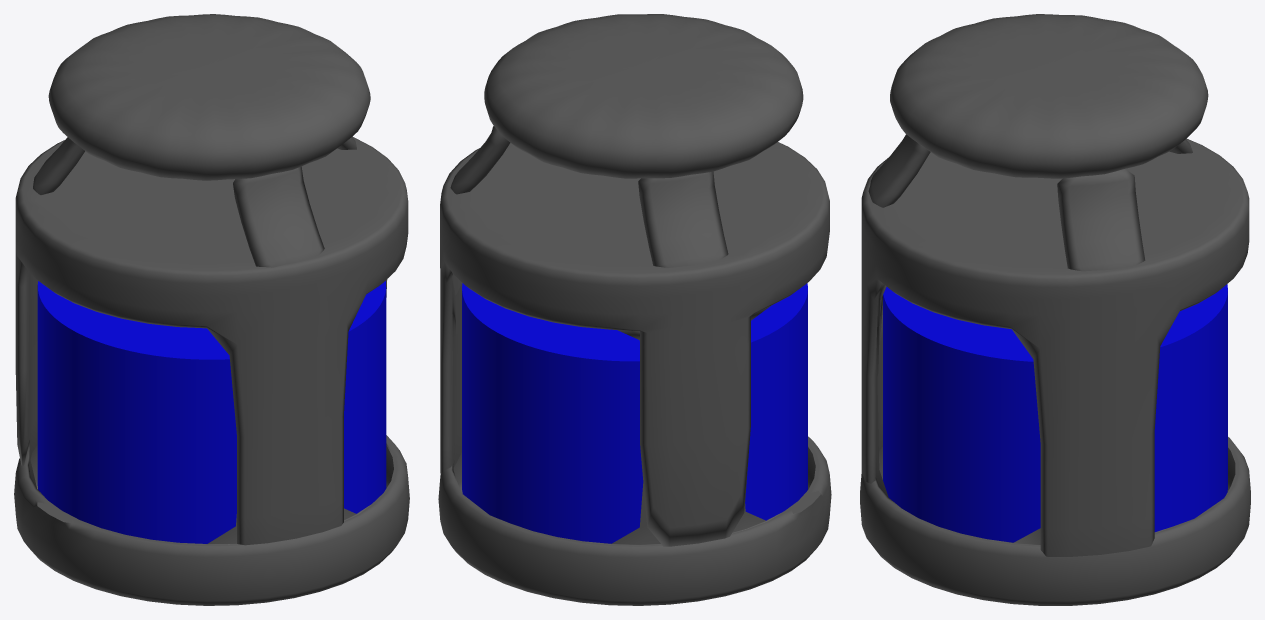
The model's file is Pocion Mediana.fbx.
The picture shows the model from 3 angles, left to right: view 1: azimuth 30°, elevation 25°; view 2: azimuth 150°, elevation 25°; view 3: azimuth 270°, elevation 25°; orthographic projection.
Parts seen in each view (by area): view 1: pCube4; view 2: pCube4; view 3: pCube4.
Boxes of the visible parts, x1,y1,x2,y2 form: pCube4: (14, 14, 409, 605); pCube4: (438, 14, 831, 605); pCube4: (860, 14, 1250, 605).
Size of the model in its own units: 42.82 by 55.46 by 42.82.
